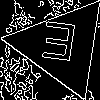E: (36, 21, 79, 71)
